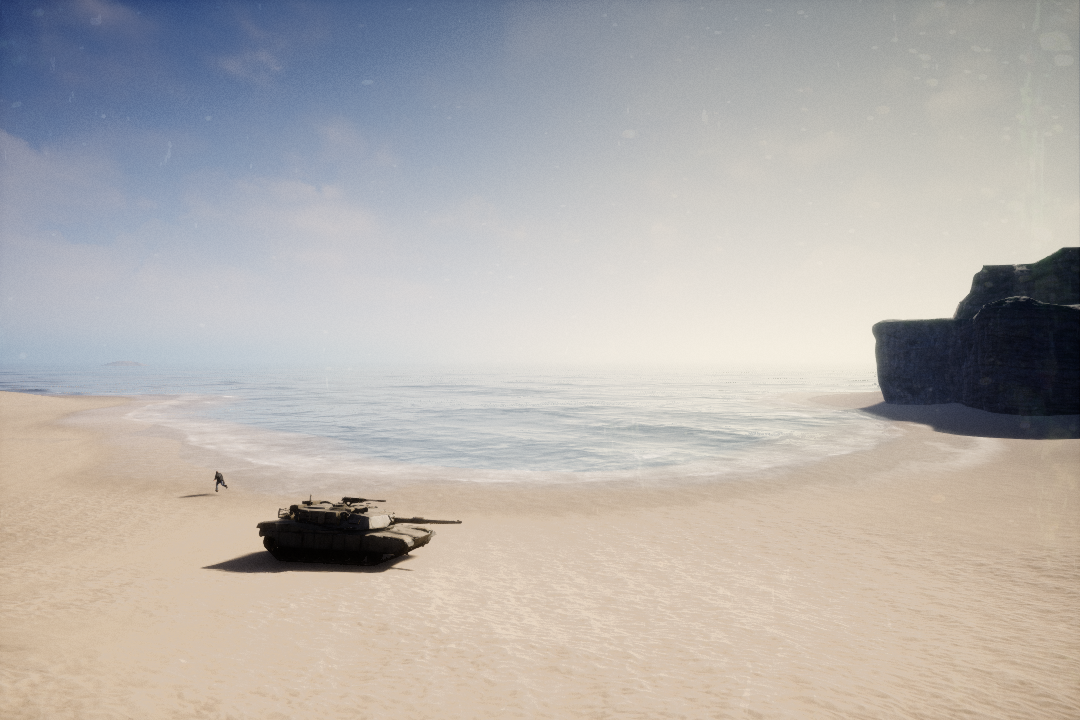person: (210, 465, 231, 493)
tank: (251, 493, 468, 567)
